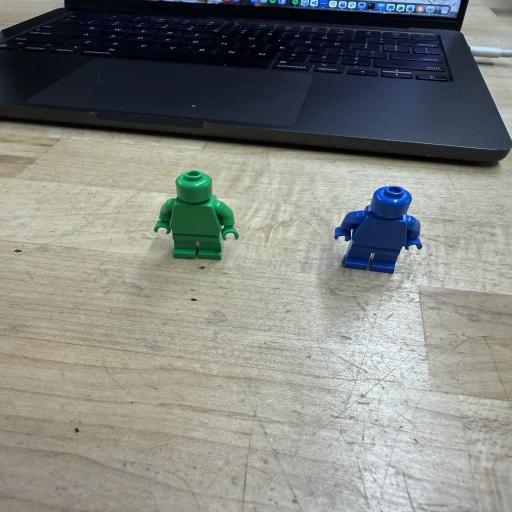blue-minifig: (335, 186, 422, 273)
green-minifig: (154, 170, 239, 260), (160, 195, 234, 241)
